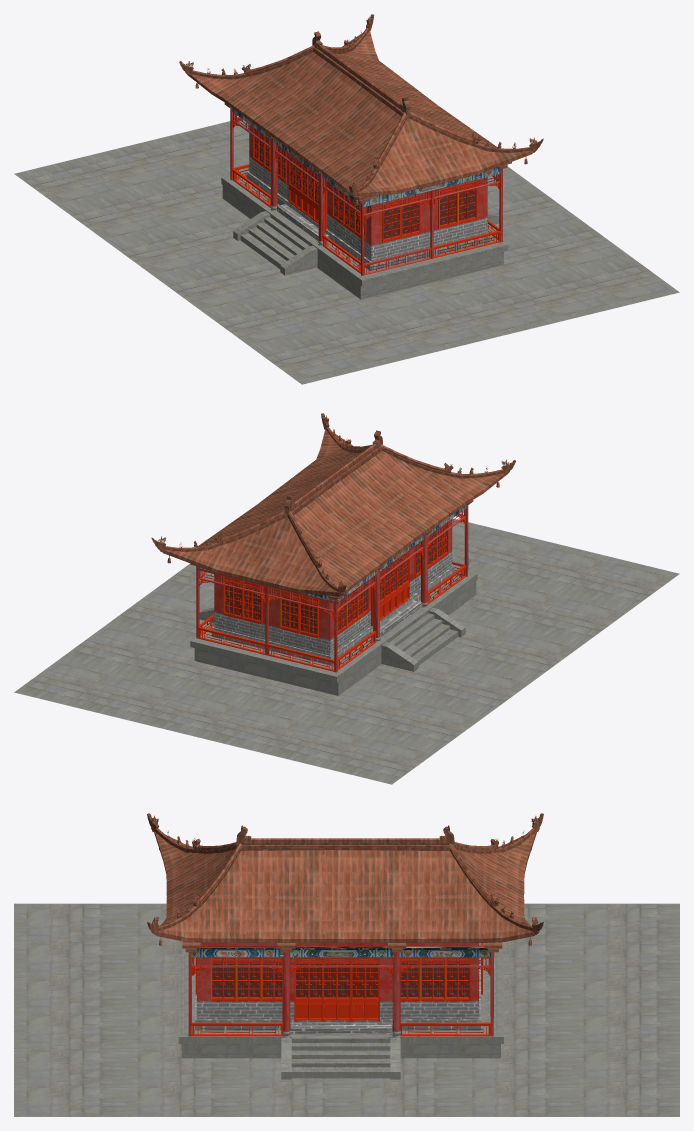
The model's file is hall.glb.
The picture shows the model from 3 angles, top to bottom: view 1: azimuth 30°, elevation 25°; view 2: azimuth 150°, elevation 25°; view 3: azimuth 270°, elevation 25°; orthographic projection. The views are drawn at different scales.
Parts seen in each view (by area): view 1: Object_4; view 2: Object_4; view 3: Object_4.
Part boxes in pixels (x1,y1,x2,y2): Object_4: [14, 14, 679, 384]; Object_4: [14, 413, 679, 784]; Object_4: [14, 813, 679, 1116].
Size of the model in its own units: 19.24 by 8.08 by 25.4.
14 materials, 11 textured.
